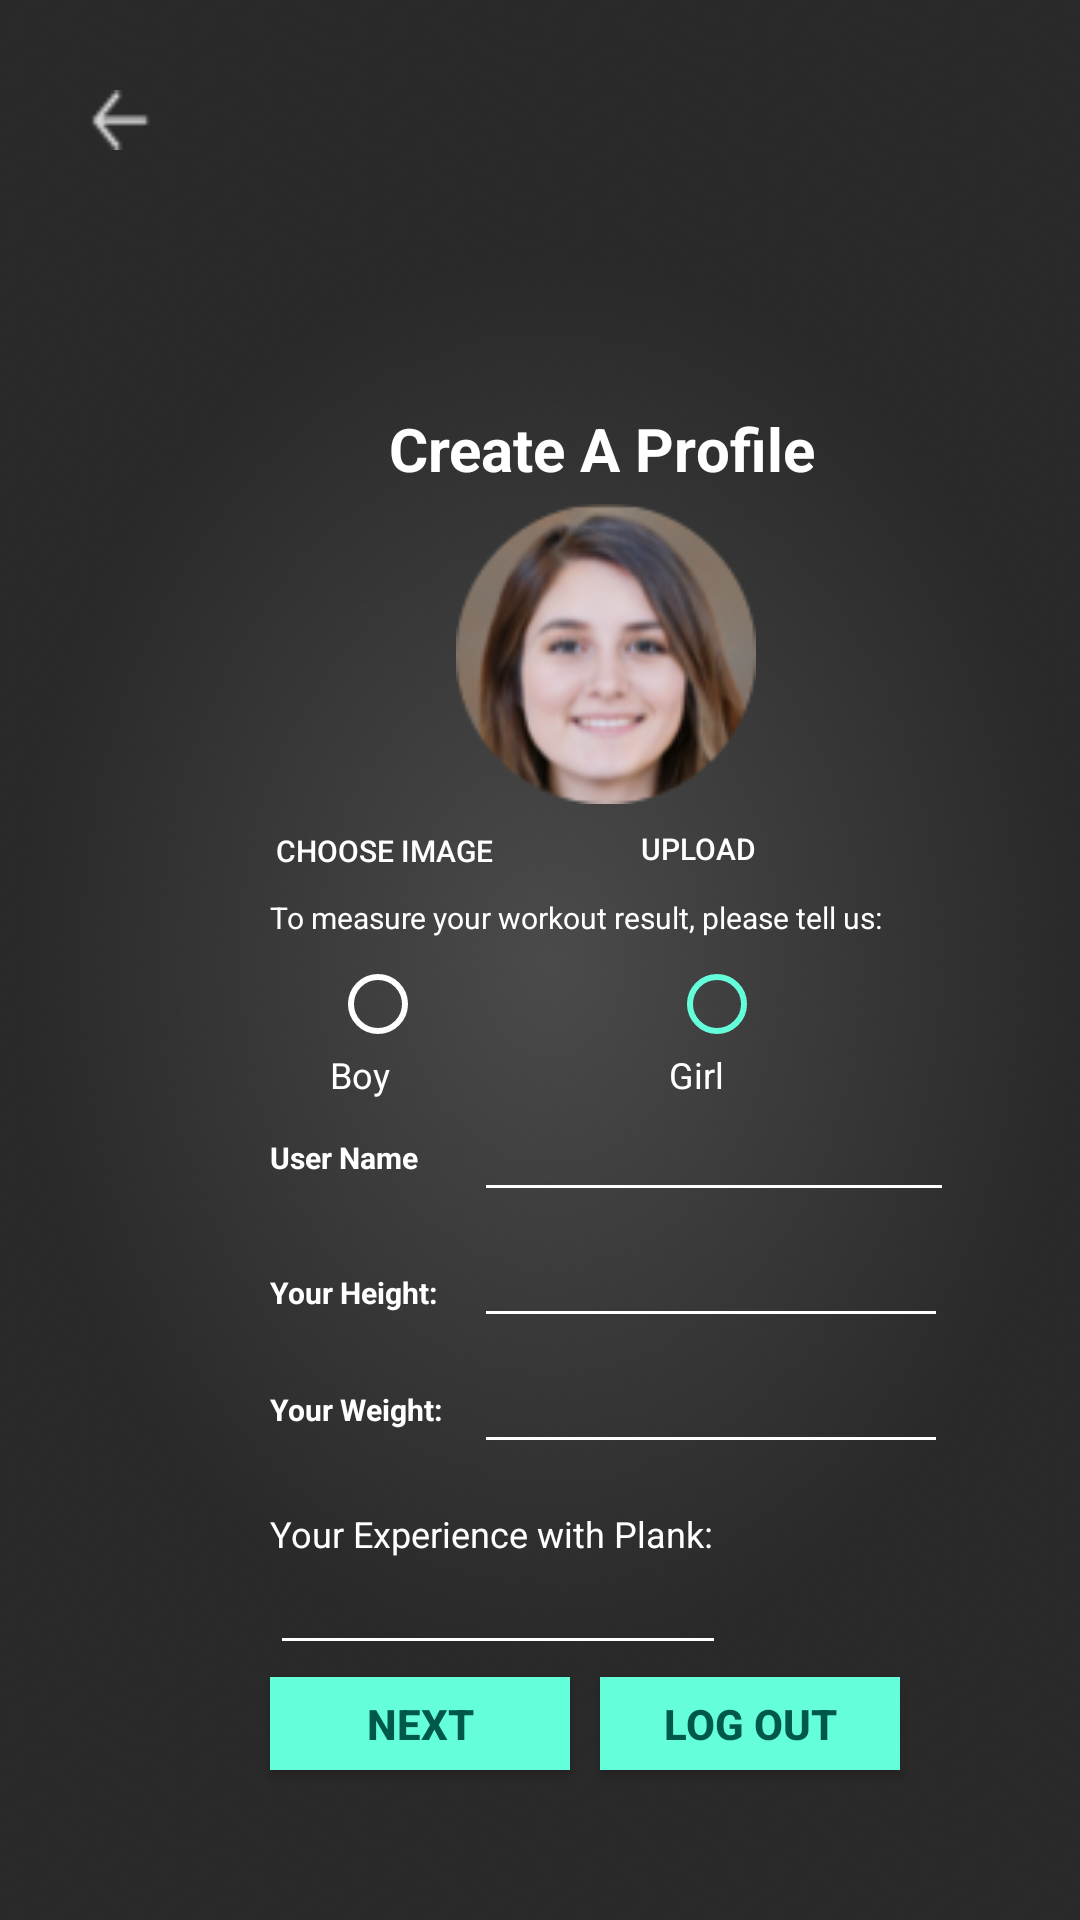

Where icons sit on this 1080 × 1920 app screen, as (x1=x1, y1=y1, x2=x2, y2=y2):
back: (x1=92, y1=90, x2=148, y2=150)
